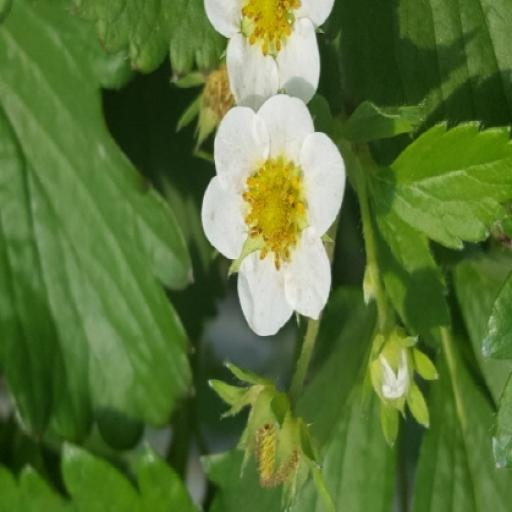Blossom Blight: (240, 239, 313, 359)
